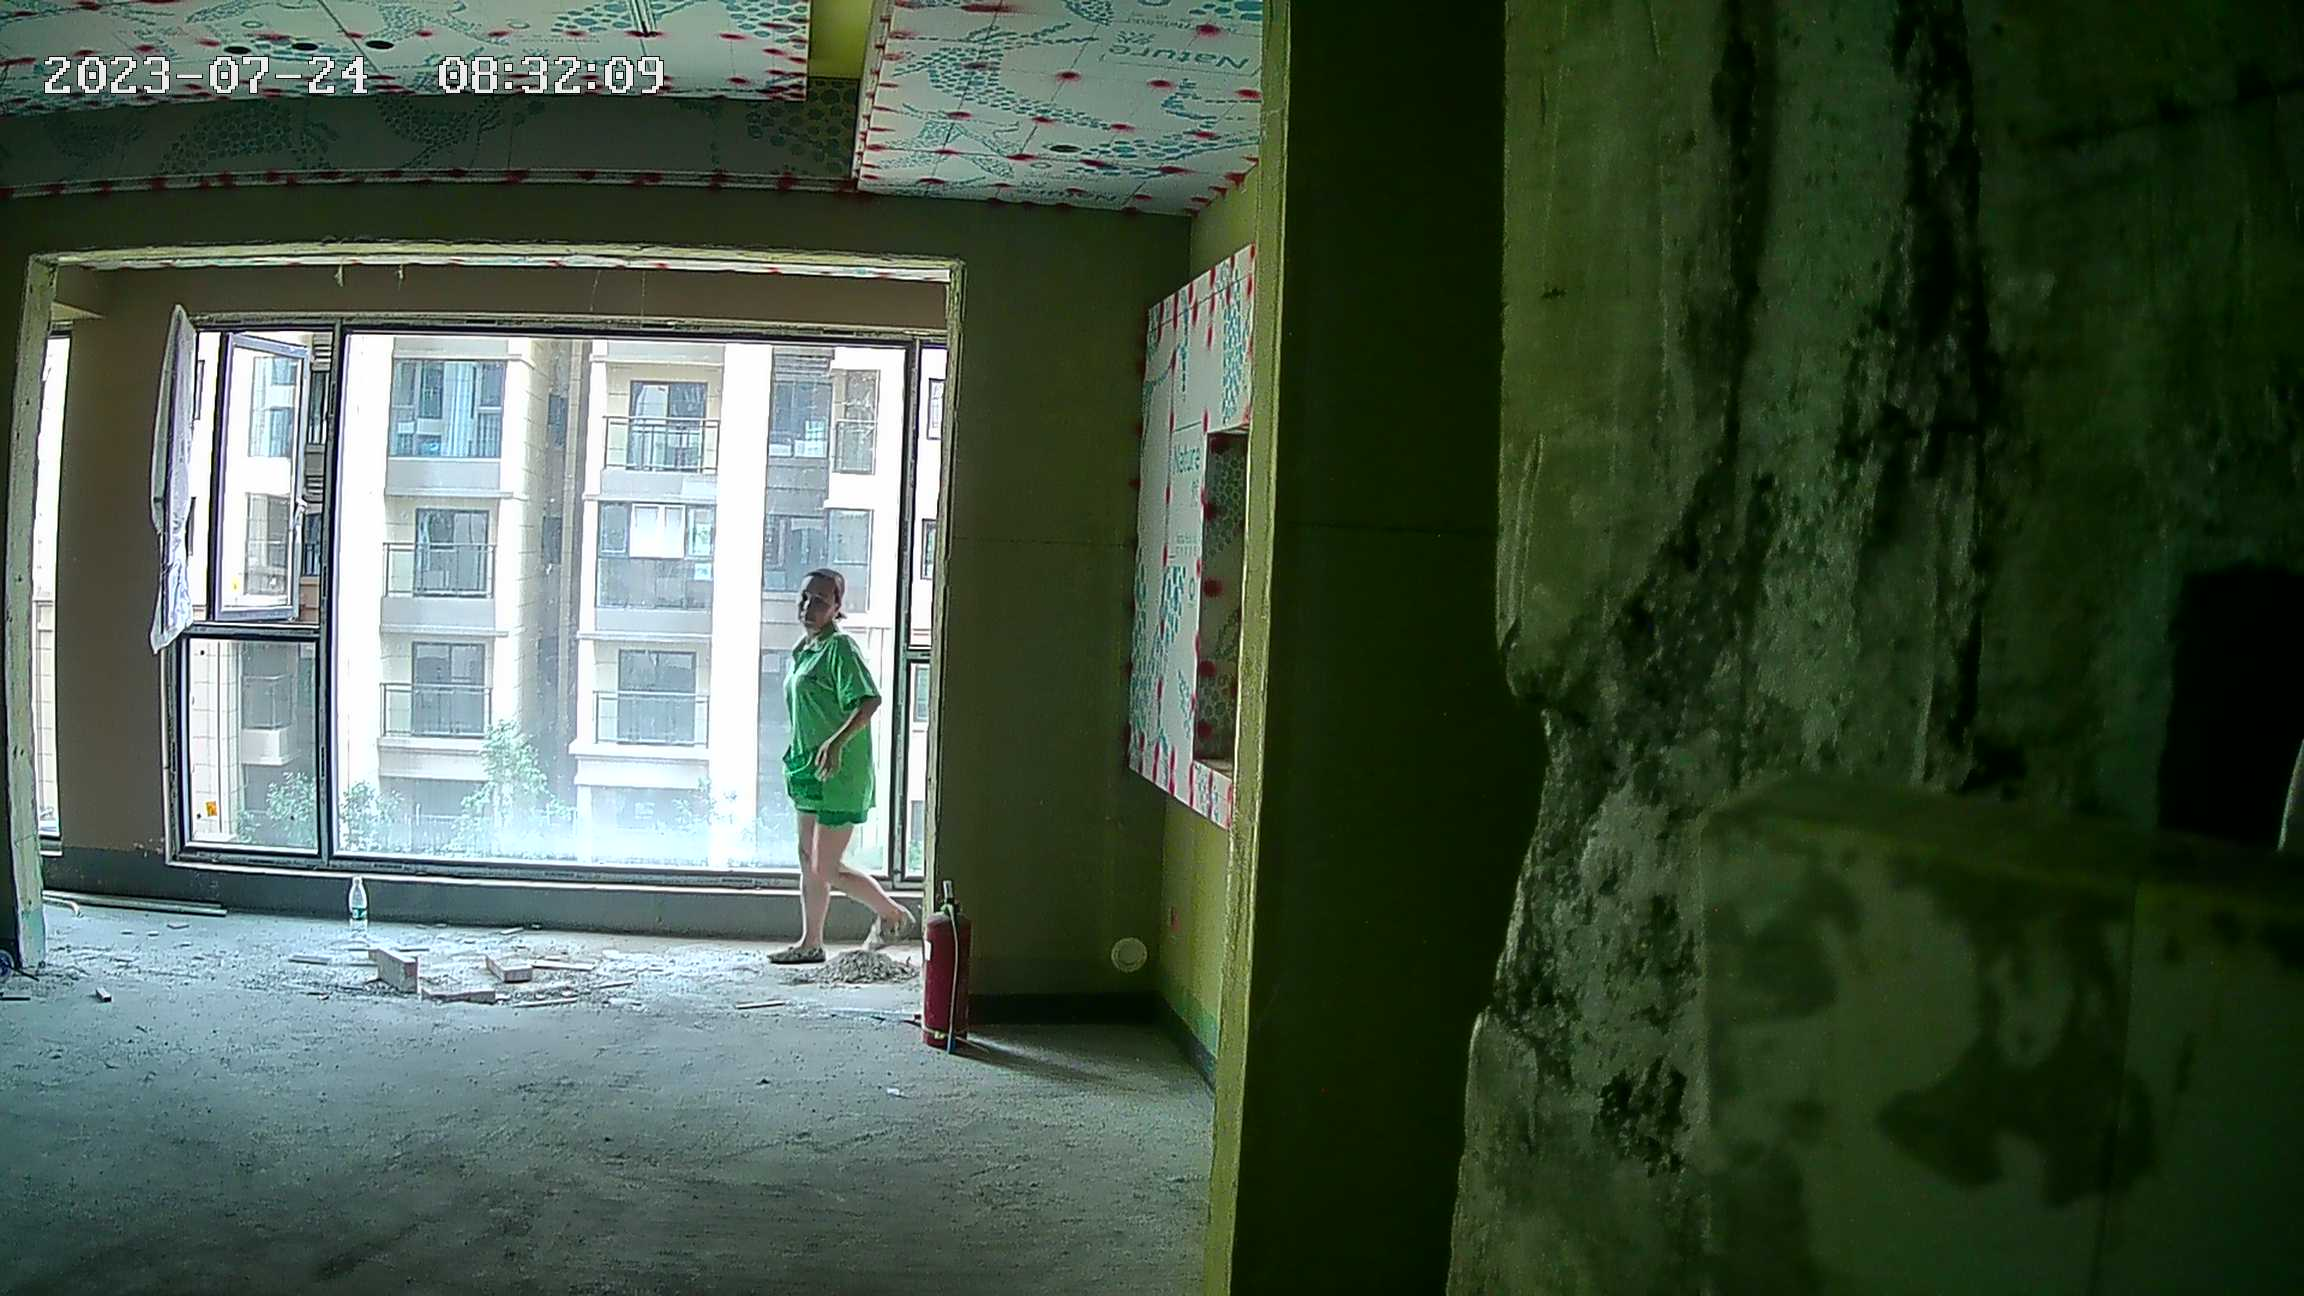people: (770, 559, 915, 971)
window: (173, 317, 928, 881)
